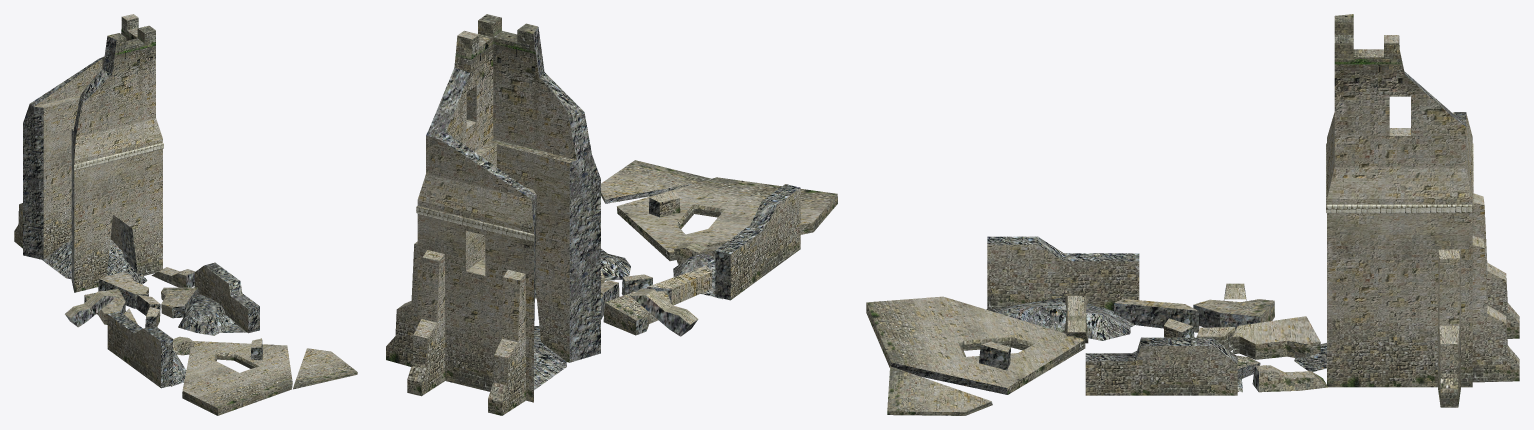
The model's file is building_ruin_02.glb.
3 renders of one model, left to right at view 1: azimuth 30°, elevation 25°; view 2: azimuth 150°, elevation 25°; view 3: azimuth 270°, elevation 25°, orthographic. The views are drawn at different scales.
Visible parts, largest first — view 1: building_ruin_02; view 2: building_ruin_02; view 3: building_ruin_02.
Part boxes in pixels (<box>): building_ruin_02: <box>14,14,357,415</box>; building_ruin_02: <box>386,14,837,415</box>; building_ruin_02: <box>866,14,1519,415</box>.
Size of the model in its own units: 11.42 by 15.51 by 26.91.
3 materials, 3 textured.
